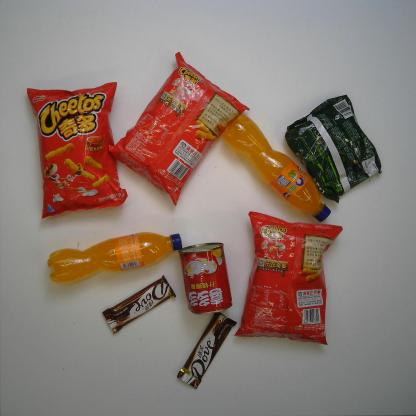Canned Food: (178, 242, 233, 315)
Chocolate: (177, 312, 237, 390), (102, 274, 176, 334)
Drink: (223, 113, 331, 223), (48, 231, 183, 285)
Instant Noodles: (283, 94, 383, 204)
Puffed Food: (108, 52, 250, 207), (234, 210, 344, 346), (27, 82, 128, 219)
